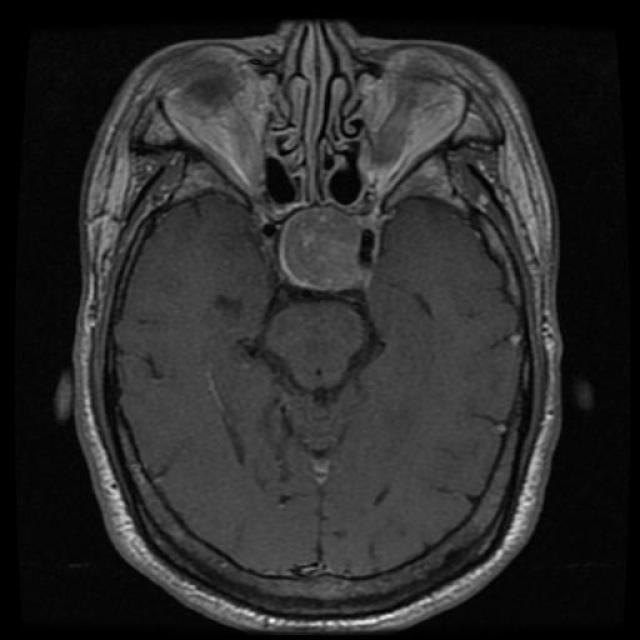pituitary: (278, 199, 374, 297)
